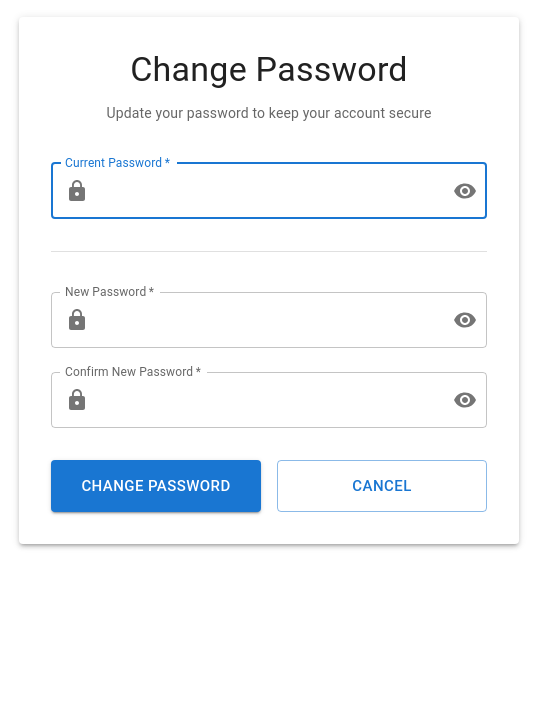
Test case: PasswordChangeForm › prevents same password as current
This screenshot has width=539, height=701.
Type "currentpass123" into the password field labelled "Current Password *" at (267, 191), box [97,163,437,219]
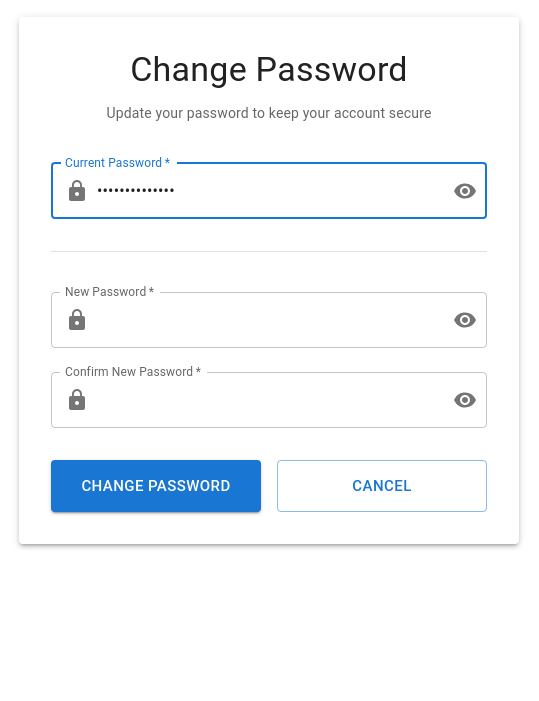
Type "currentpass123" into the password field labelled "New Password *" at (267, 320), box [97,292,437,348]
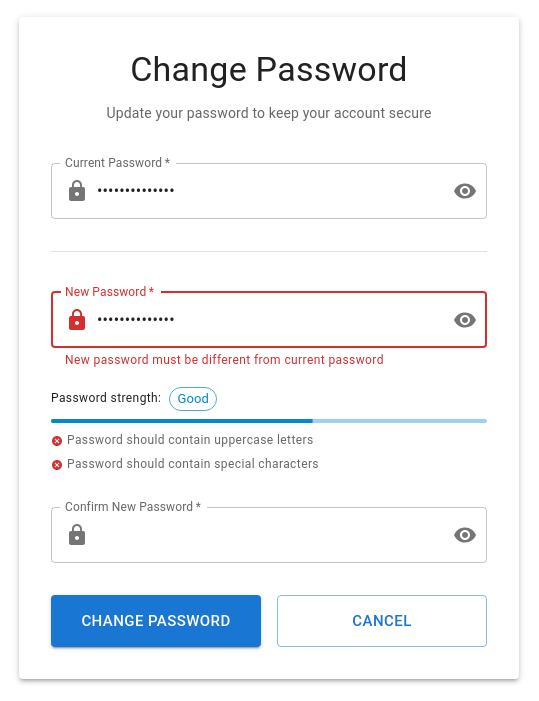
Check: the text "New password must be different from current password" is shown, box [65,353,384,367]
